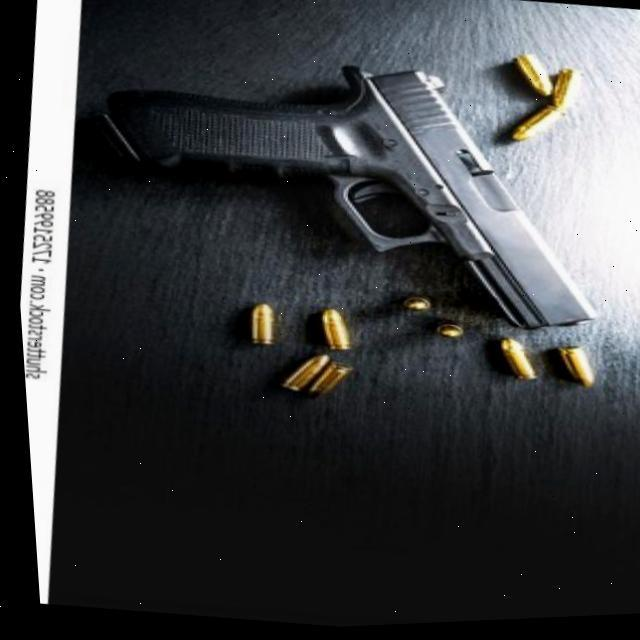gun: (61, 30, 632, 358)
